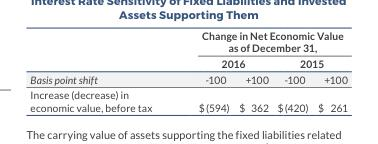table: (29, 28, 346, 113)
table column: (29, 28, 174, 113), (174, 28, 233, 113), (272, 28, 312, 113), (233, 28, 272, 113), (312, 28, 346, 113)
table column header: (29, 28, 346, 86)
table row: (29, 28, 346, 55), (29, 86, 346, 113), (29, 70, 346, 86), (29, 55, 346, 70)
table spanning cell: (29, 28, 174, 86), (174, 28, 346, 55), (174, 55, 272, 70), (272, 55, 346, 70)
